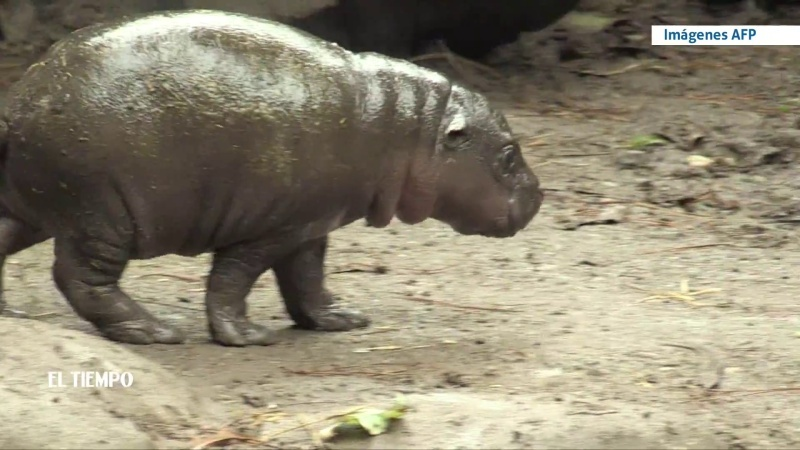hipopotamo: (1, 5, 550, 366)
